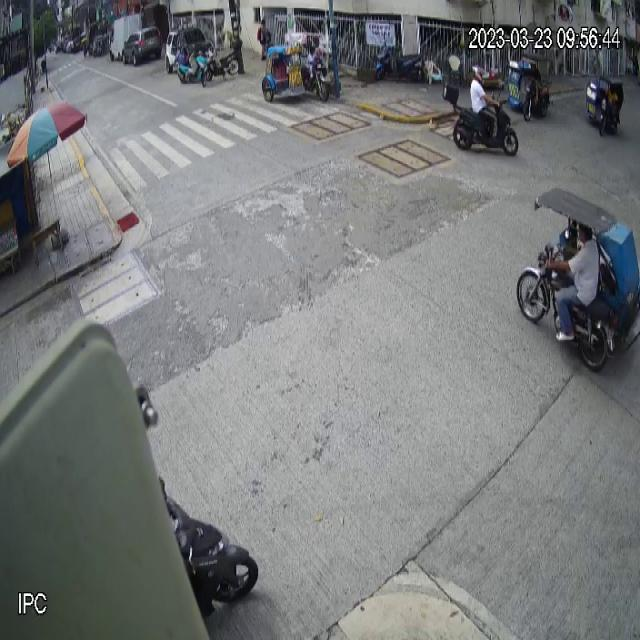Motorcycle: (442, 82, 520, 156)
Tricycle: (515, 185, 640, 374), (262, 32, 330, 104), (585, 75, 625, 136)
